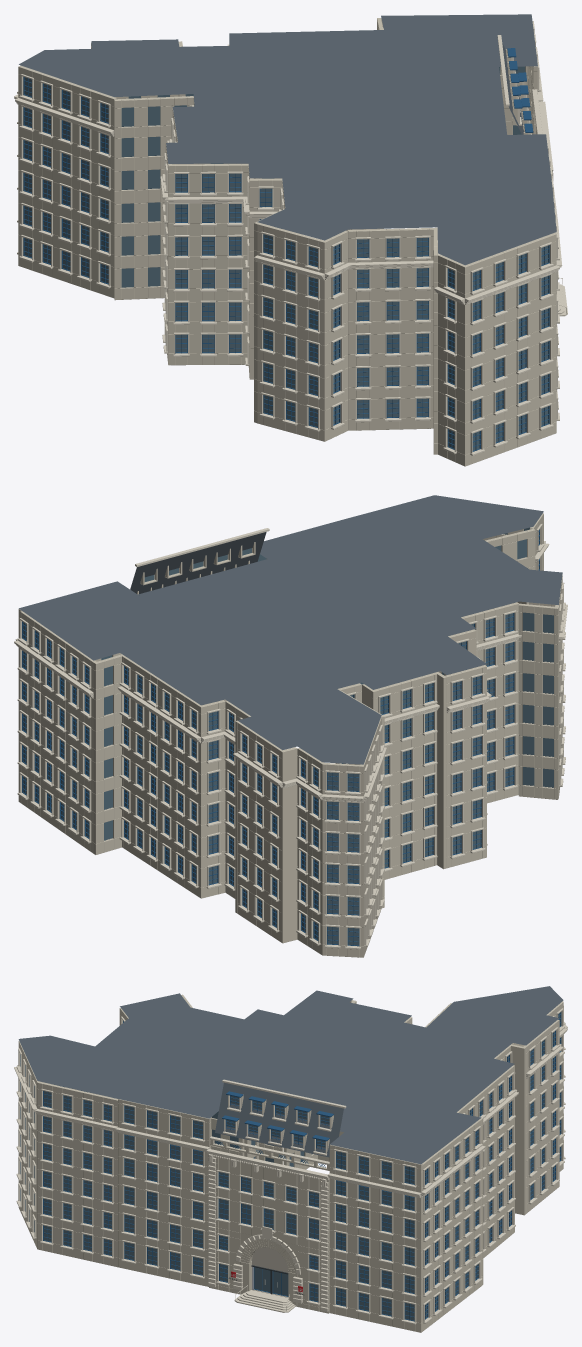
The model's file is old-exterior-939d22ec32fd.glb.
3 renders of one model, top to bottom at view 1: azimuth 30°, elevation 25°; view 2: azimuth 150°, elevation 25°; view 3: azimuth 270°, elevation 25°, orthographic. The views are drawn at different scales.
Parts seen in each view (by area): view 1: OLD.001; view 2: OLD.001; view 3: OLD.001.
Part boxes in pixels (x1=…): OLD.001: x1=14, y1=14, x2=567, y2=466; OLD.001: x1=14, y1=495, x2=567, y2=957; OLD.001: x1=14, y1=986, x2=567, y2=1332.
Bounding box in the file's own units: 56.8 × 28.37 × 73.14.
